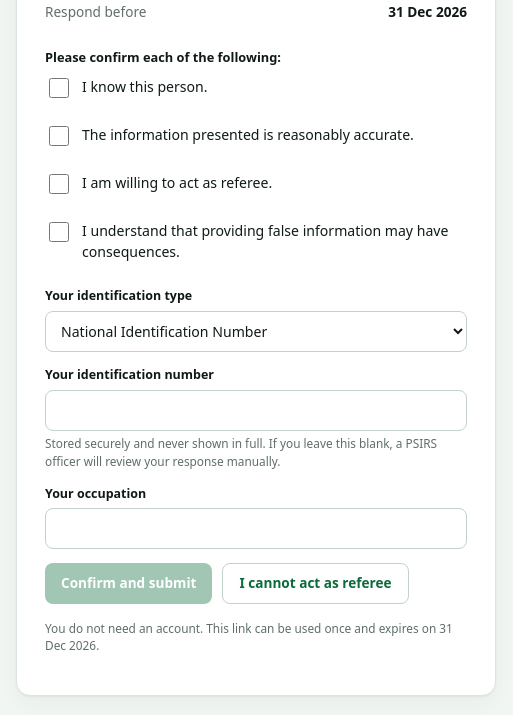
Test: a referee who did not mean to decline › offers a way back, and taking it sends nothing
This screenshot has width=513, height=715.
(page scrolled)
Click the button "I cannot act as referee" at (315, 584), box [222, 563, 408, 604]
(page scrolled)
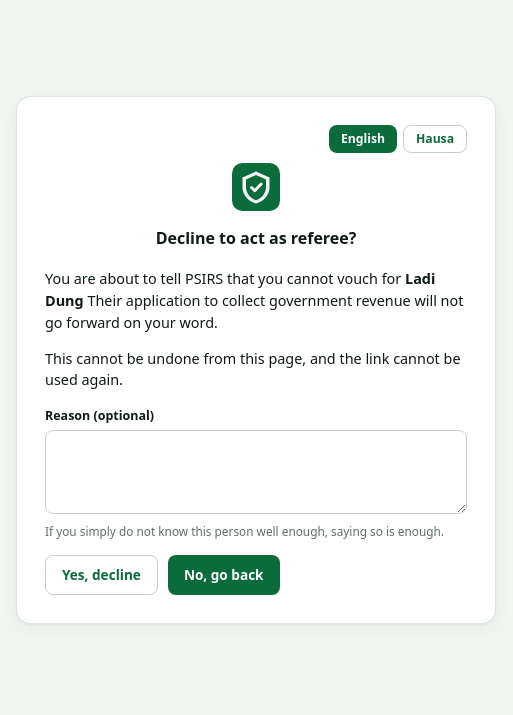
Click the button "No, go back" at (224, 575), box [168, 555, 280, 595]
(page scrolled)
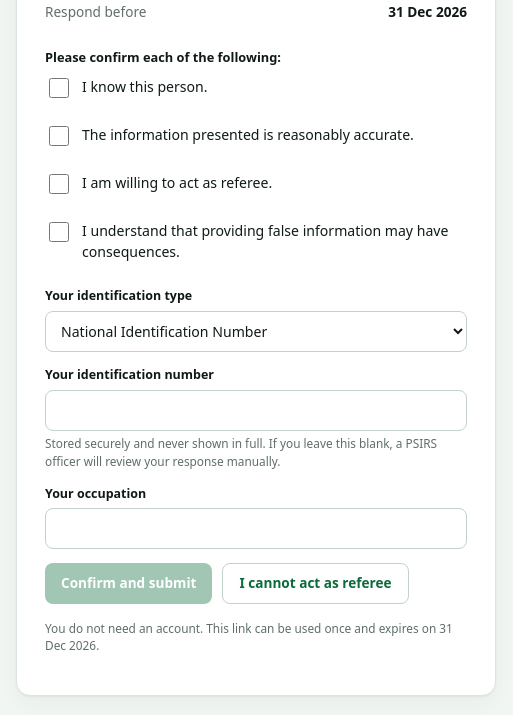
Expected: the button "Confirm and submit" is shown, [45, 563, 212, 604]
